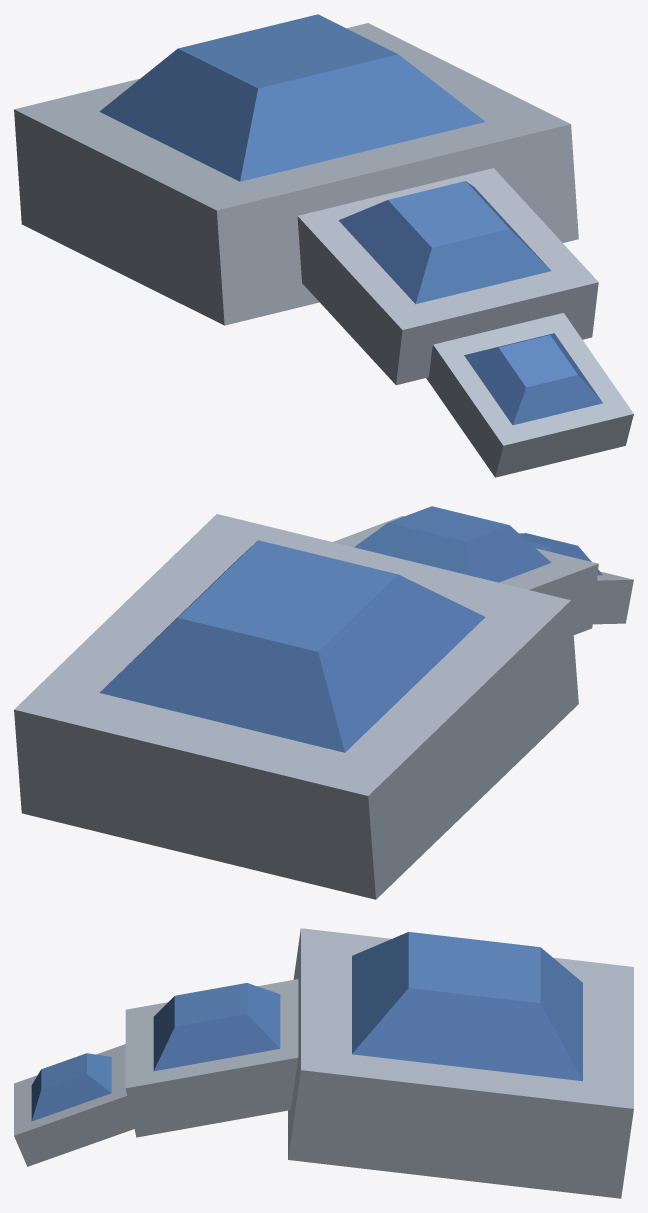
File: SD_Prop_Gem_03.fbx
The picture shows the model from 3 angles, top to bottom: view 1: azimuth 30°, elevation 25°; view 2: azimuth 150°, elevation 25°; view 3: azimuth 270°, elevation 25°; orthographic projection. The views are drawn at different scales.
Visible parts, largest first — view 1: SD_Prop_Gem_03; view 2: SD_Prop_Gem_03; view 3: SD_Prop_Gem_03.
Boxes of the visible parts, x1,y1,x2,y2 form: SD_Prop_Gem_03: (14, 14, 633, 477); SD_Prop_Gem_03: (14, 506, 633, 899); SD_Prop_Gem_03: (14, 928, 633, 1198).
Bounding box in the file's own units: 0.2271 × 0.135 × 0.4193.
